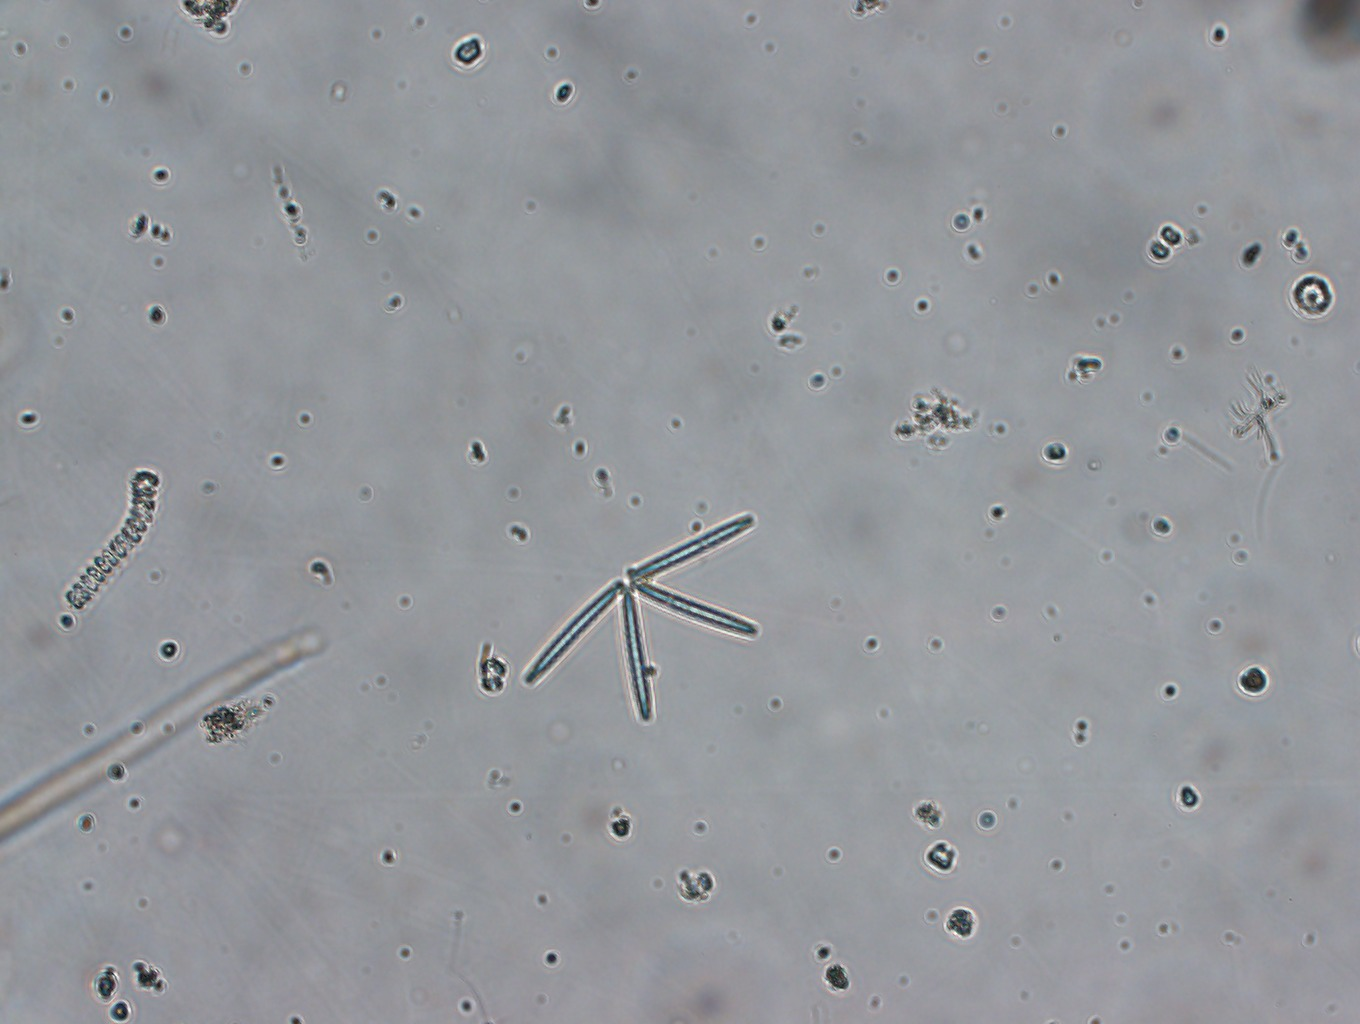skeletonema: (55, 461, 164, 615)
thalassionema nitzschioides: (520, 509, 762, 722)
